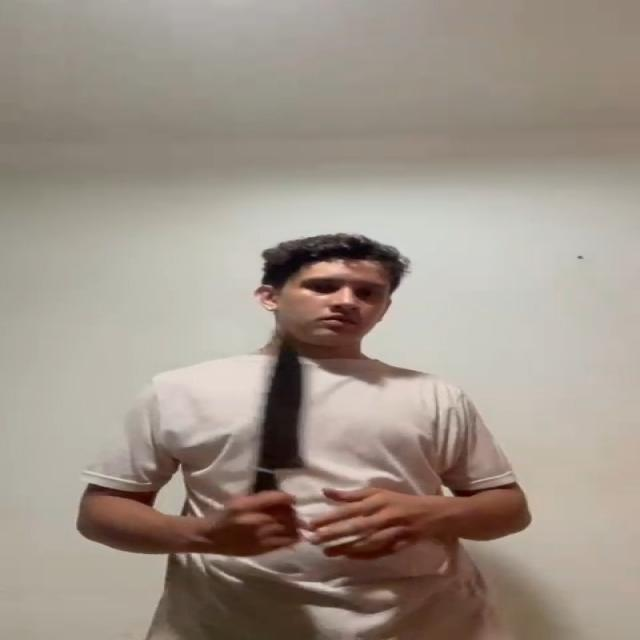knife: (252, 330, 308, 473)
